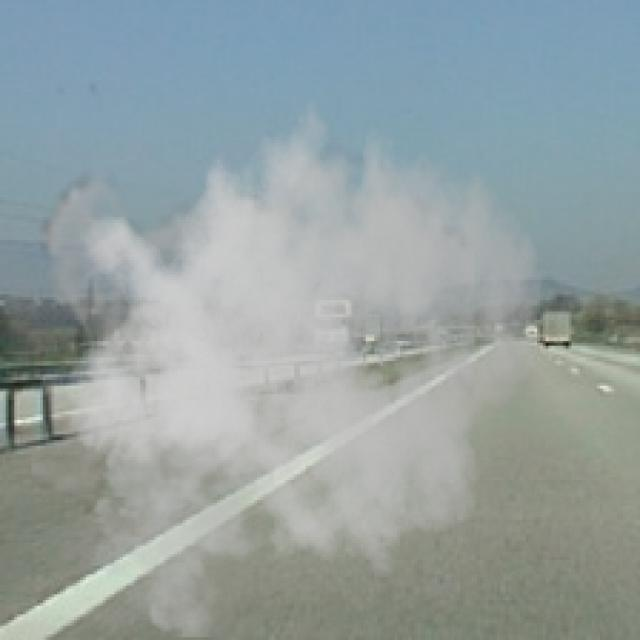smoke: (31, 77, 546, 637)
